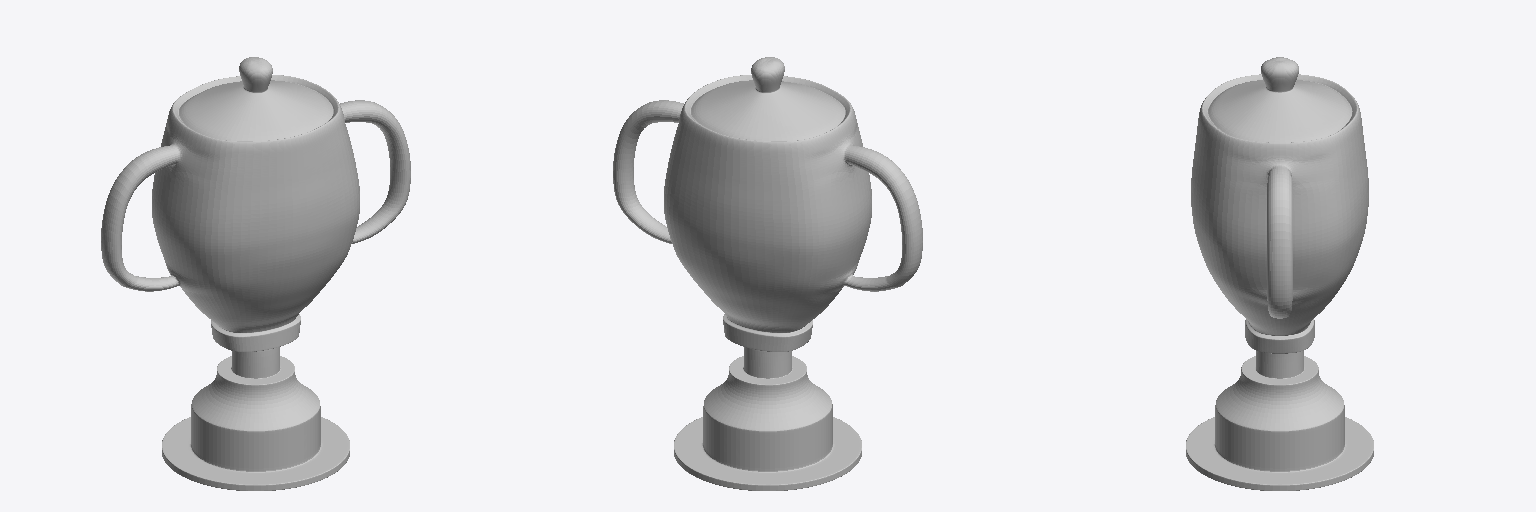
File: Trophy.obj
3 views of the same model, side by side, from view 1: azimuth 30°, elevation 25°; view 2: azimuth 150°, elevation 25°; view 3: azimuth 270°, elevation 25° (orthographic).
Visible parts, largest first — view 1: Trophy; view 2: Trophy; view 3: Trophy.
Boxes of the visible parts, <box> form: Trophy: <box>101,57,410,490</box>; Trophy: <box>613,57,922,490</box>; Trophy: <box>1186,57,1373,490</box>.
Bounding box in the file's own units: 13.01 × 15.97 × 6.98.